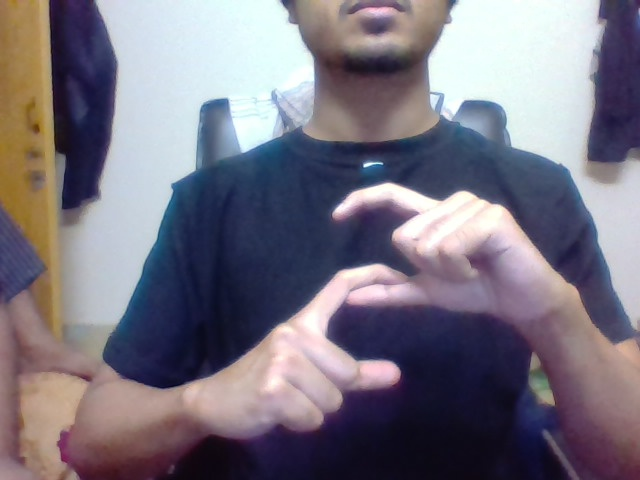S: (319, 180, 416, 392)
